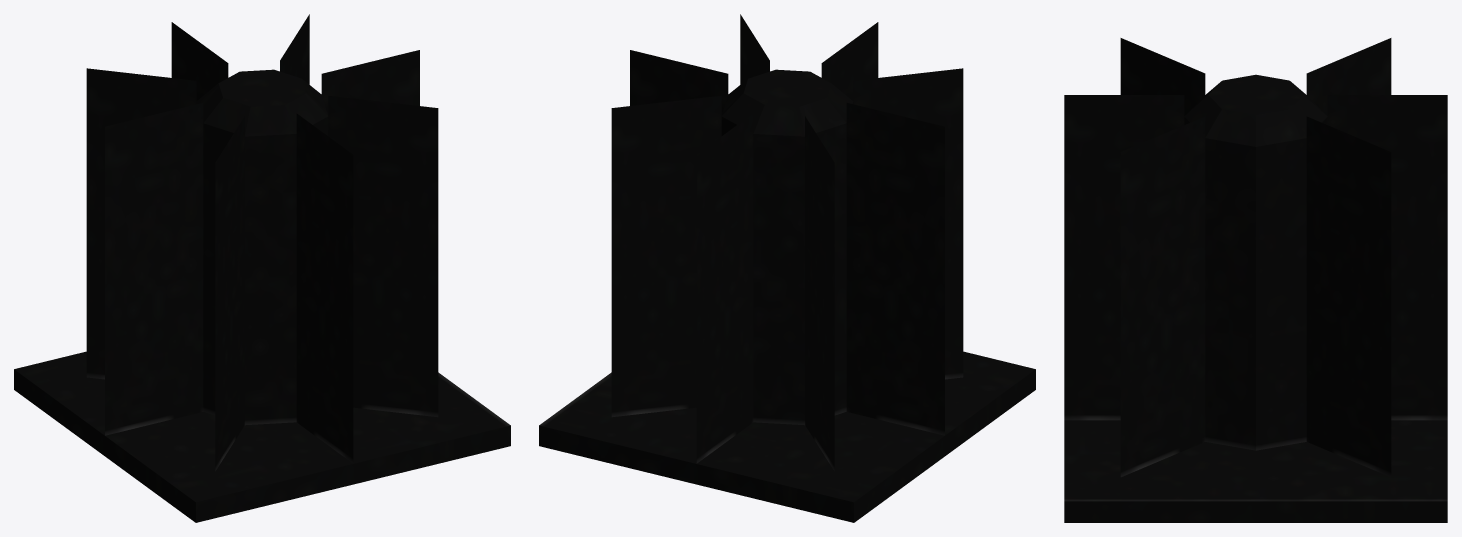
File: rtg_polonium.obj
3 renders of one model, left to right at view 1: azimuth 30°, elevation 25°; view 2: azimuth 150°, elevation 25°; view 3: azimuth 270°, elevation 25°, orthographic. The views are drawn at different scales.
Parts seen in each view (by area): view 1: rtg_polonium; view 2: rtg_polonium; view 3: rtg_polonium.
Part boxes in pixels (bbox=[...]): rtg_polonium: bbox=[14, 14, 510, 522]; rtg_polonium: bbox=[539, 14, 1035, 522]; rtg_polonium: bbox=[1064, 38, 1447, 522].
Size of the model in its own units: 1 by 1 by 1.
